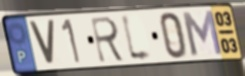0: (158, 11, 188, 61)
1: (60, 17, 82, 66)
L: (119, 11, 157, 64)
M: (179, 8, 225, 58)
R: (89, 15, 128, 65)
V: (26, 19, 57, 67)
